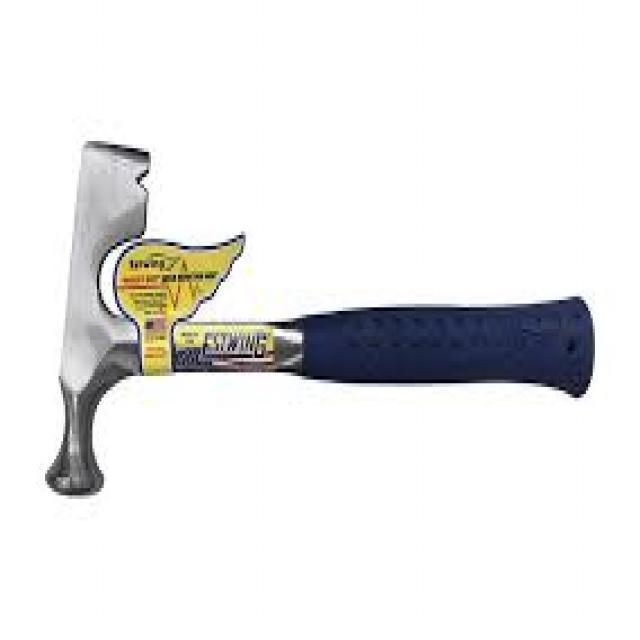hammer: (39, 122, 608, 556)
